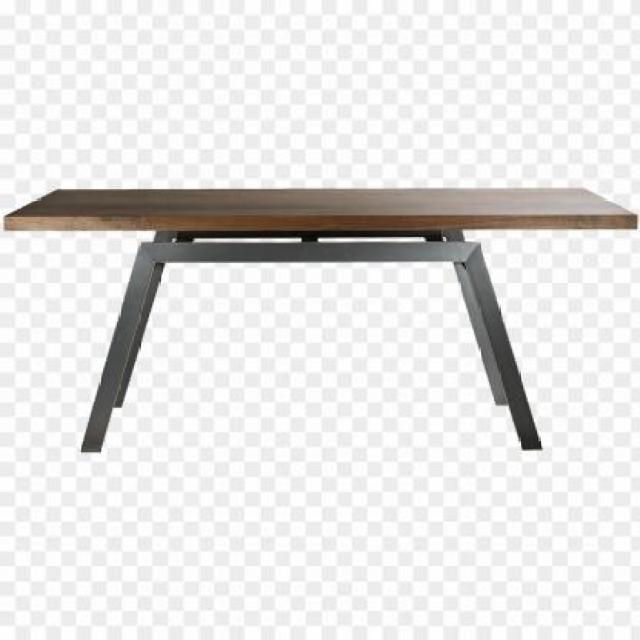table: (3, 187, 635, 450)
